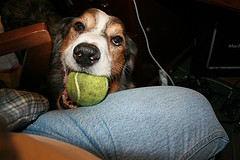tennis ball: (65, 69, 109, 106)
